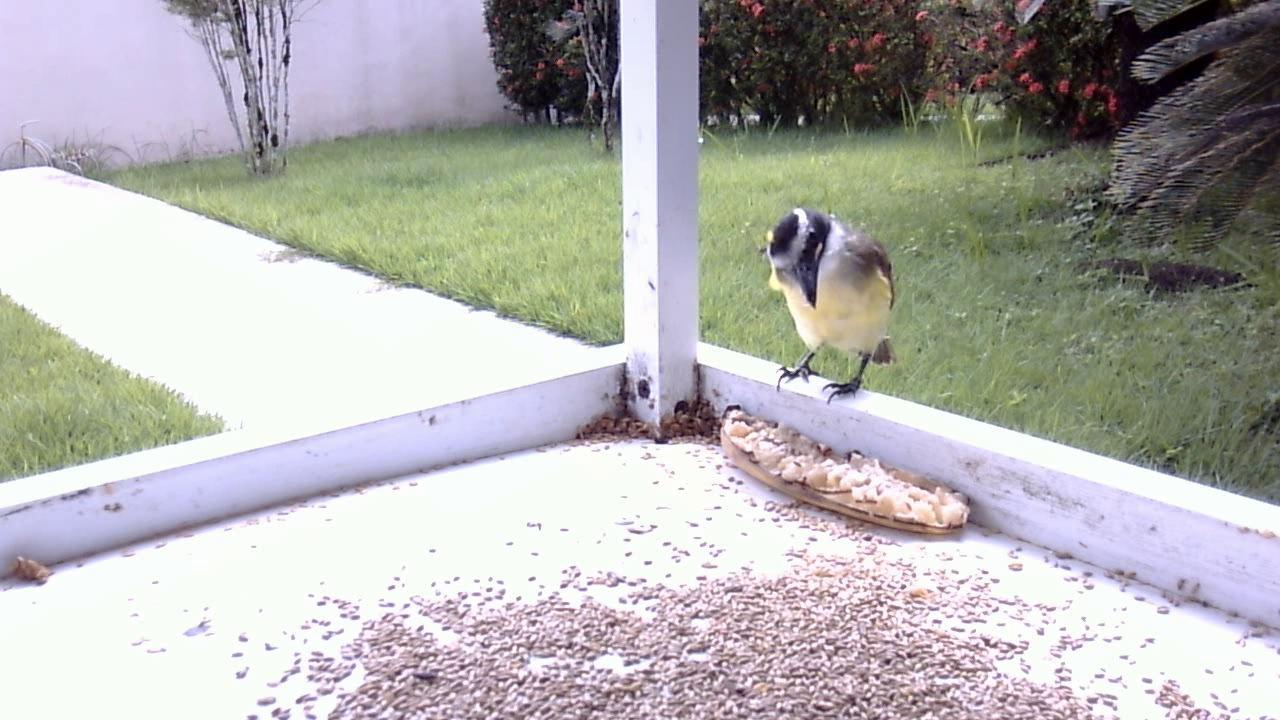bem_te_vi: (757, 202, 902, 412)
